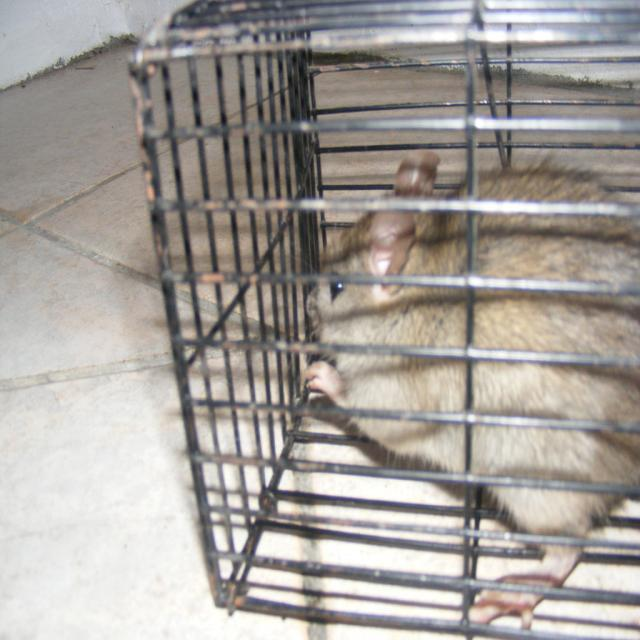rat: (304, 145, 630, 629)
